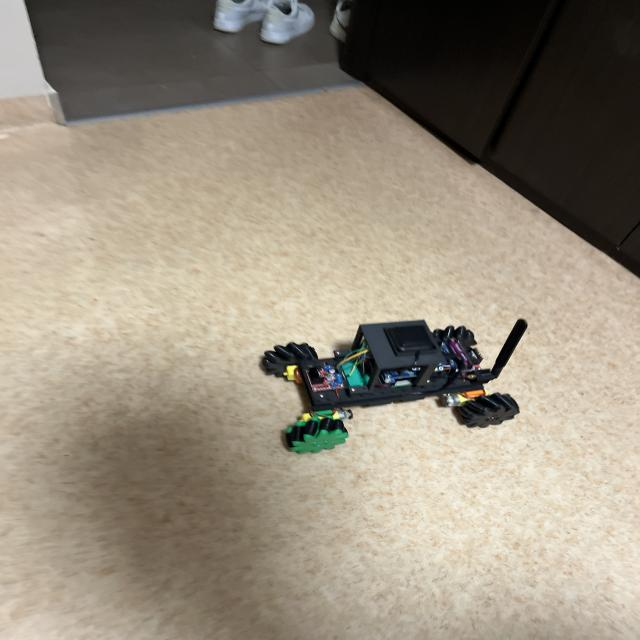robot: (261, 319, 527, 453)
